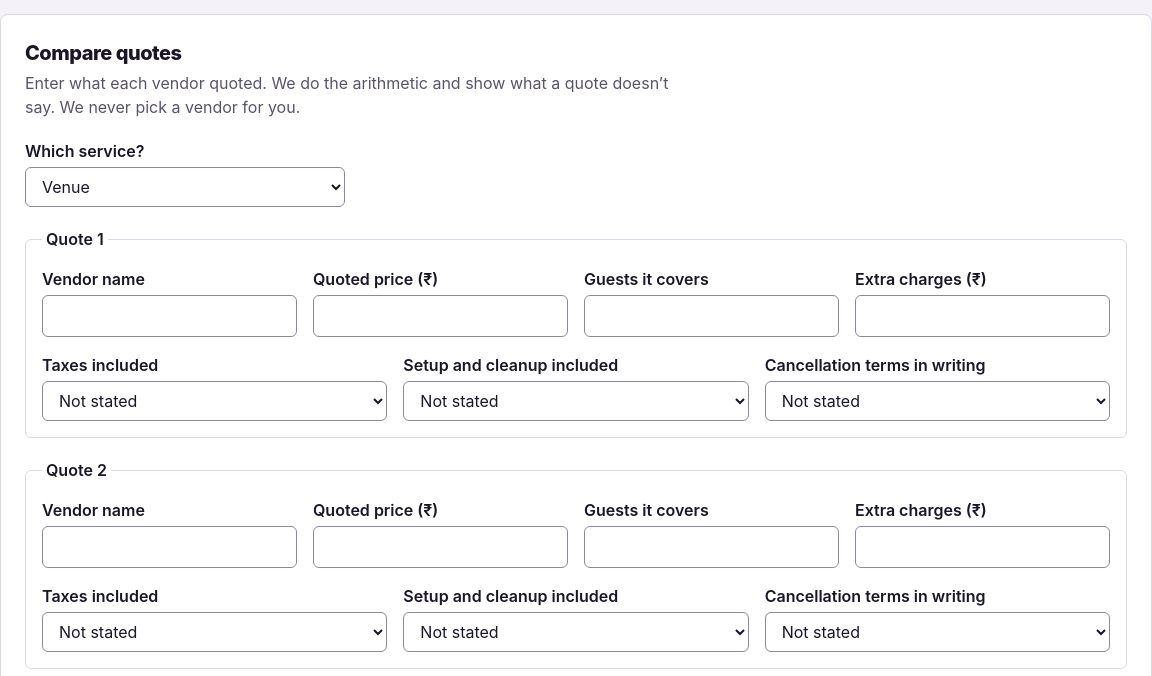
it: axe audit: states that appear after the user acts › quote comparison results
The width and height of the screenshot is (1152, 676).
(page scrolled)
Step 1. Type "100000" into the 1st field labelled "Quoted price (₹)" → (440, 316), box 313,295 -> 568,337
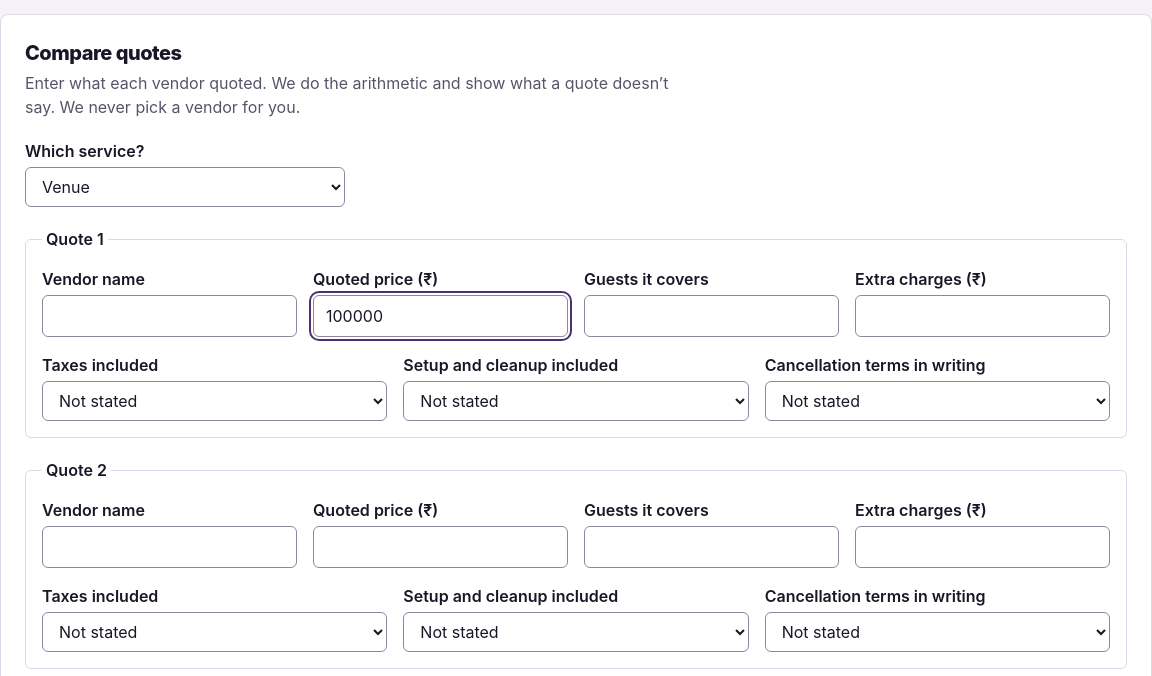
Step 2. Type "120000" into the 2nd field labelled "Quoted price (₹)" → (440, 547), box 313,526 -> 568,568
(page scrolled)
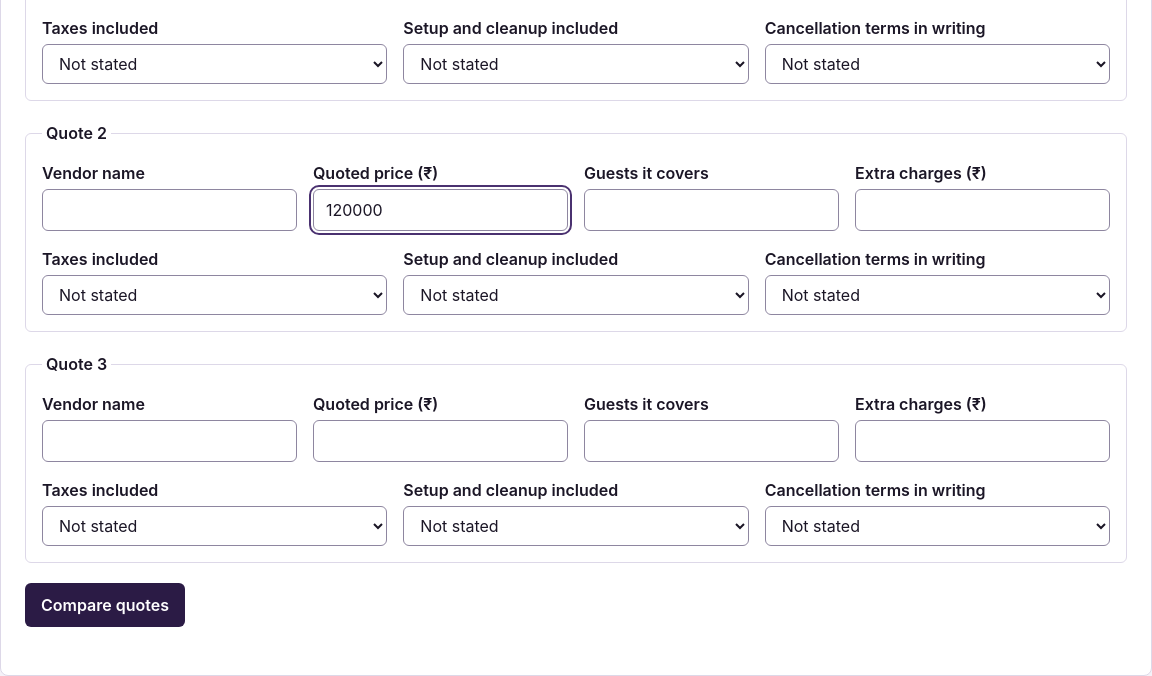
Step 3. Click the button "Compare quotes" → (105, 605), box 25,583 -> 185,627
(page scrolled)
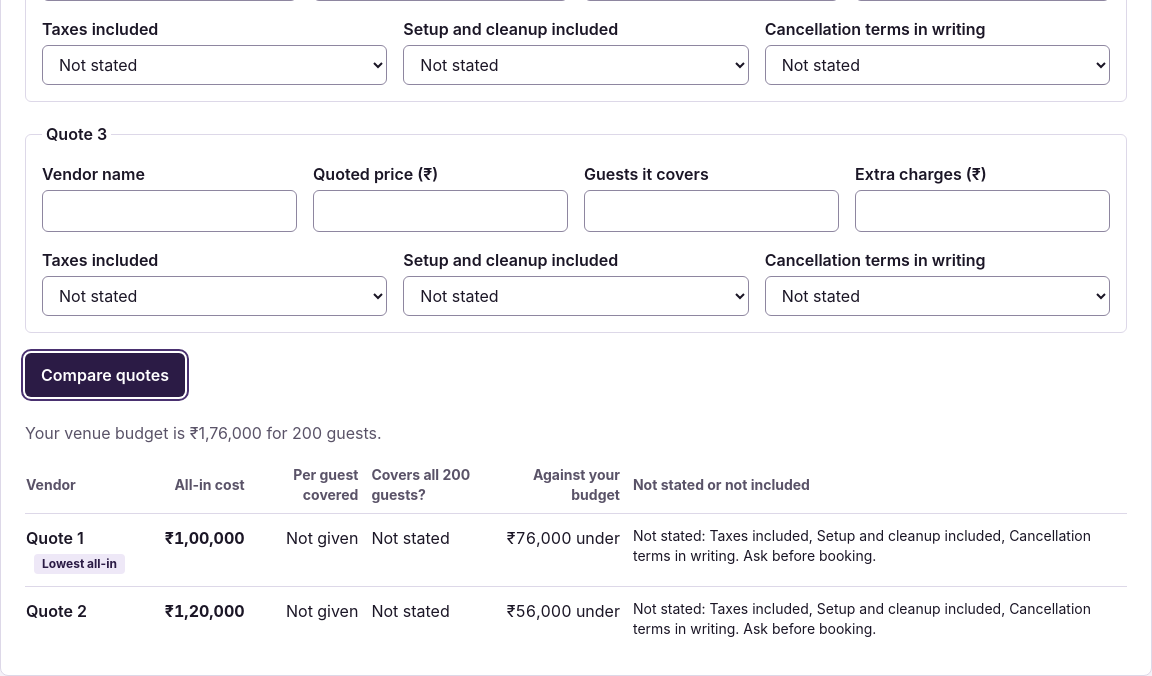
Expected: the table named "quote comparison" is shown, 25,457 -> 1127,651
